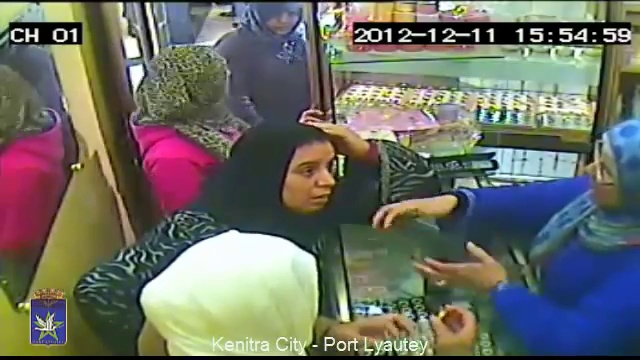face: (281, 149, 334, 209), (584, 144, 627, 210), (270, 8, 296, 34)
